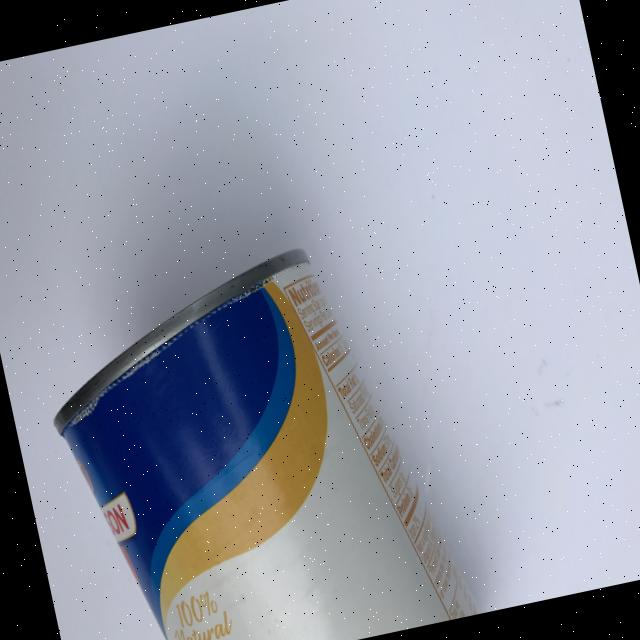metal: (27, 225, 478, 640)
